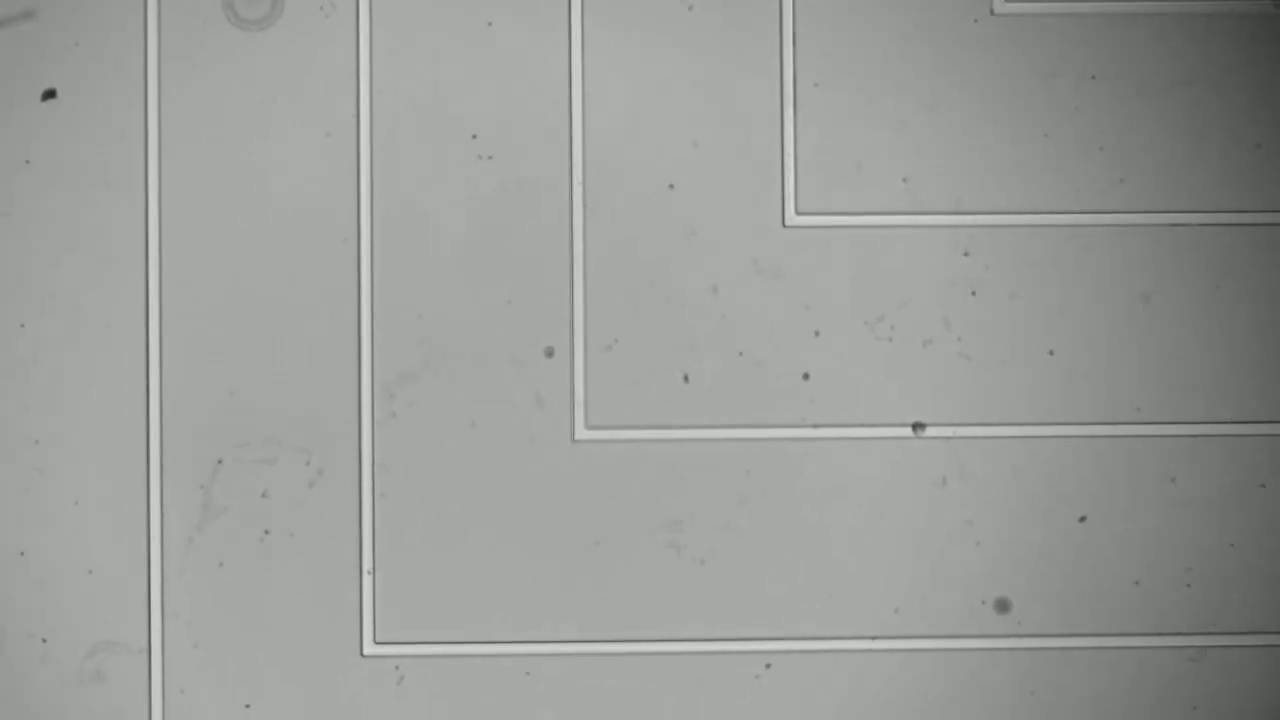stains_enbedded: (904, 414, 934, 448)
